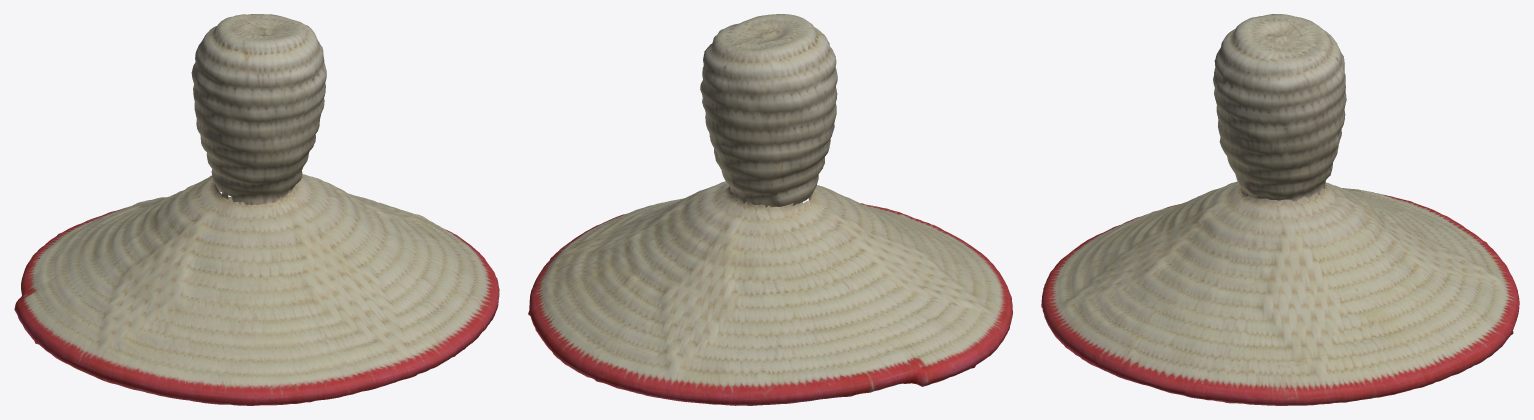
Rendered from serving-dish.gltf.
3 renders of one model, left to right at view 1: azimuth 30°, elevation 25°; view 2: azimuth 150°, elevation 25°; view 3: azimuth 270°, elevation 25°, orthographic.
Visible parts, largest first — view 1: low-res; view 2: low-res; view 3: low-res.
Boxes of the visible parts, box(x1,y1,x2,y2) form: low-res: box(14, 14, 499, 405); low-res: box(528, 14, 1012, 405); low-res: box(1041, 14, 1519, 405).
Bounding box in the file's own units: 3.69 × 2.39 × 3.64.
1 material, 1 textured.
